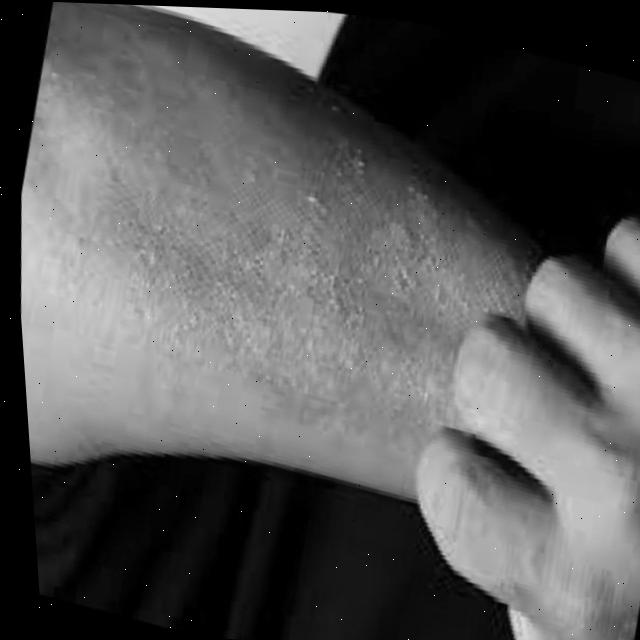Eczema: (97, 98, 543, 469)
